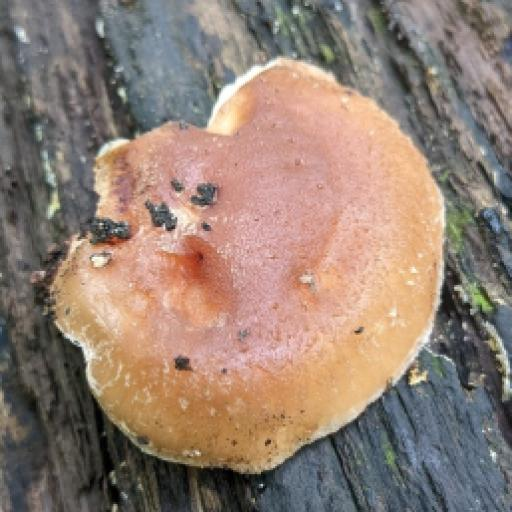Shiitake Mushroom: (4, 24, 505, 512)
